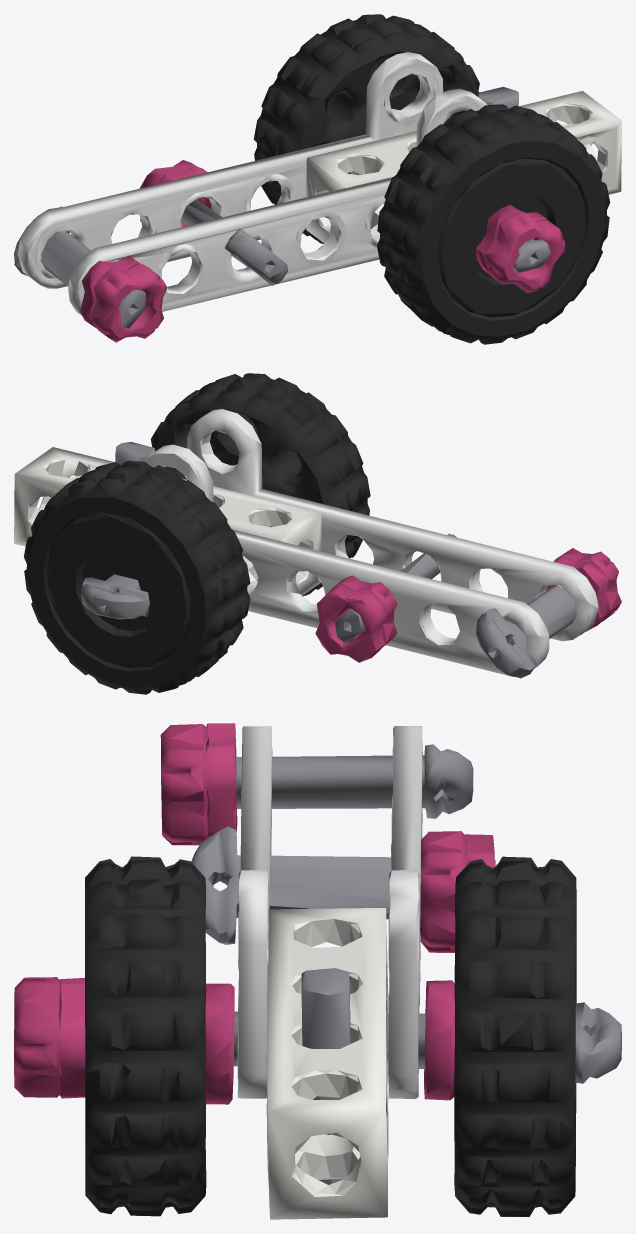
Rendered from UMilestone3.fbx.
3 views of the same model, one above another, from view 1: azimuth 30°, elevation 25°; view 2: azimuth 150°, elevation 25°; view 3: azimuth 270°, elevation 25° (orthographic). The views are drawn at different scales.
Parts seen in each view (by area): view 1: Wheel GND TTRD FXD BU03.00x01.00 - SPN-WHL-0002 (stemfie.or; view 2: Wheel GND TTRD FXD BU03.00x01.00 - SPN-WHL-0002 (stemfie.or; view 3: Wheel GND TTRD FXD BU03.00x01.00 - SPN-WHL-0002 (stemfie.or.
Part boxes in pixels (x1=…): Wheel GND TTRD FXD BU03.00x01.00 - SPN-WHL-0002 (stemfie.or: x1=14, y1=14, x2=621, y2=344; Wheel GND TTRD FXD BU03.00x01.00 - SPN-WHL-0002 (stemfie.or: x1=14, y1=373, x2=621, y2=694; Wheel GND TTRD FXD BU03.00x01.00 - SPN-WHL-0002 (stemfie.or: x1=14, y1=723, x2=621, y2=1219.
Bounding box in the file's own units: 9989 × 3740 × 6315.
